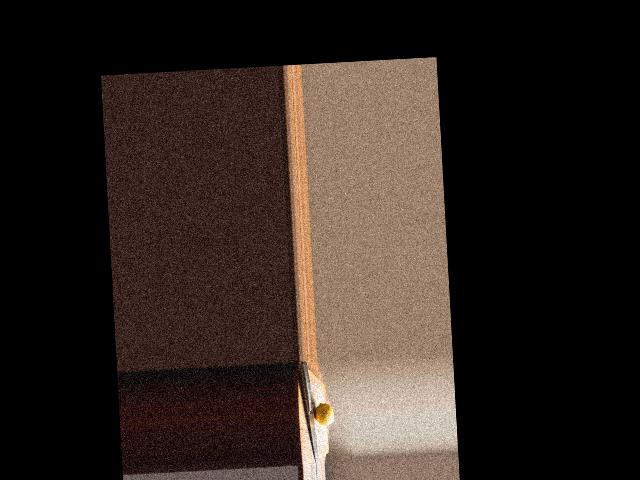lemon: (314, 400, 336, 427)
